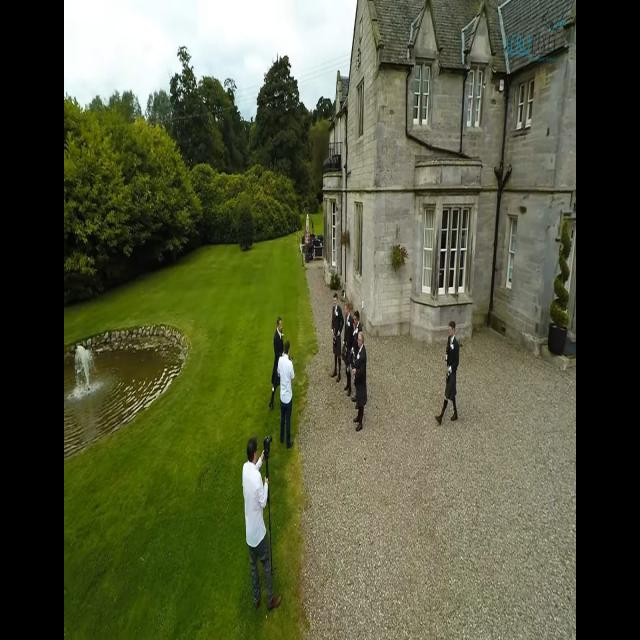humans: (239, 426, 281, 614), (436, 319, 463, 428), (277, 341, 298, 452), (353, 329, 369, 435), (329, 289, 344, 390), (272, 310, 286, 344), (343, 300, 352, 342)
